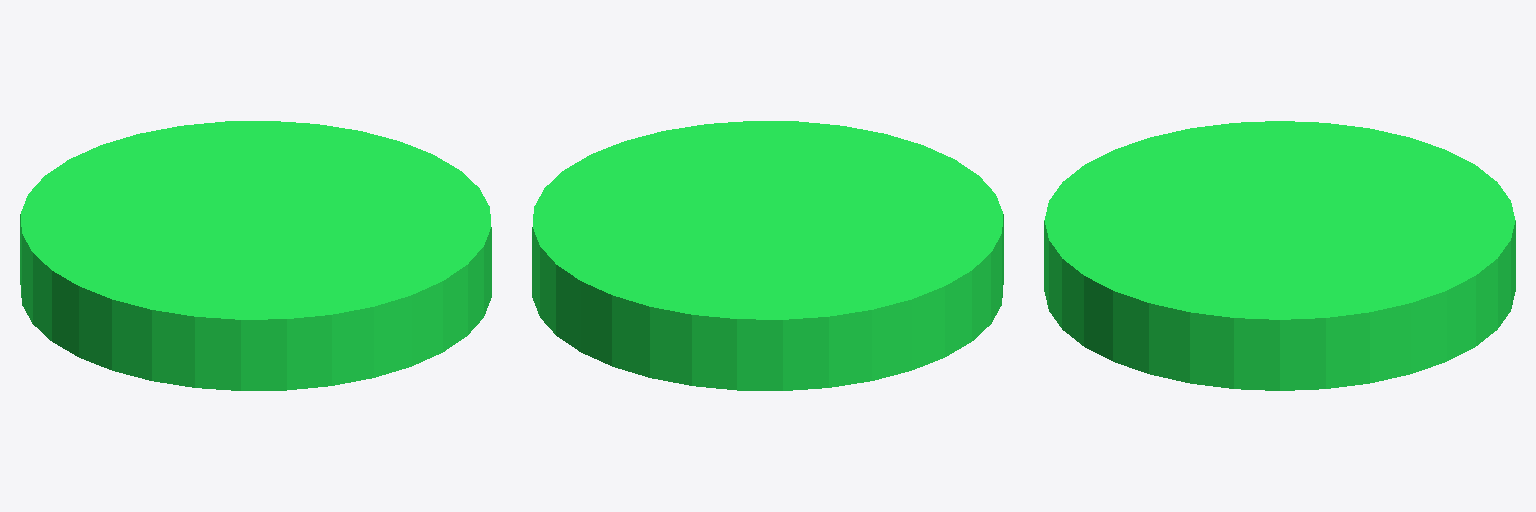
robot.urdf — goal_cube:
<?xml version="1.0"?>
<robot name="goal_cube">
  <link name="base_link">

    <visual>
      <geometry>
        <cylinder length=".5" radius="1.5"/>
      </geometry>
      <material name="green">
            <color rgba=".2 1 .4 1"/>
      </material>
    </visual>

    <collision>
      <geometry>
        <cylinder length=".5" radius="1.5"/>
      </geometry>
    </collision>

    <inertial>
      <mass value="50"/>
      <inertia ixx="1" ixy="0.0" ixz="0.0" iyy="1" iyz="0.0" izz="1"/>
    </inertial>
  </link>
</robot>

--- Render facts (derived) ---
The picture shows the robot from 3 angles, left to right: view 1: azimuth 30°, elevation 25°; view 2: azimuth 150°, elevation 25°; view 3: azimuth 270°, elevation 25°; orthographic projection.
Model goal_cube with 1 links and 0 joints (none), rooted at base_link, posed all joints at 0.
Visible links, largest first — view 1: base_link; view 2: base_link; view 3: base_link.
Boxes of the visible links, x1,y1,x2,y2 form: base_link: (20, 121, 491, 390); base_link: (532, 121, 1003, 390); base_link: (1044, 121, 1515, 390).
Size in the robot's own frame: 3 by 3 by 0.5 metres.
Geometry: primitives only (box / cylinder / sphere), no mesh files.